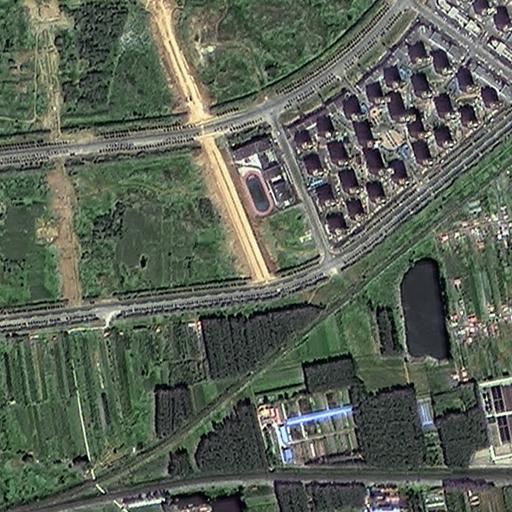school: (224, 120, 297, 219)
